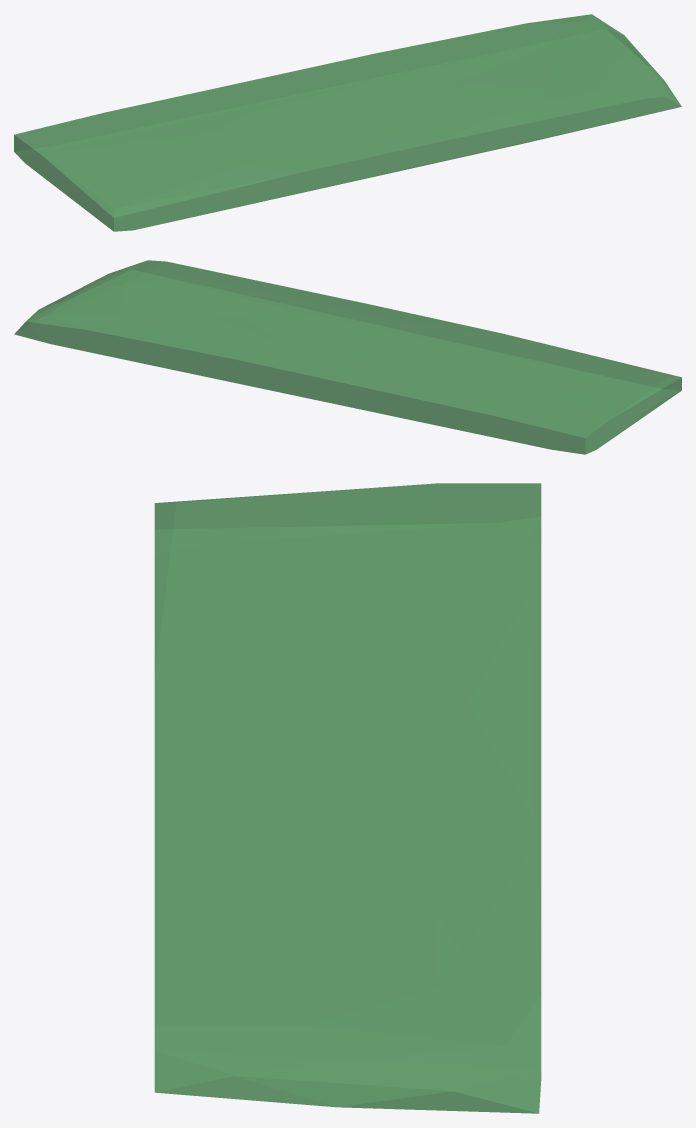
The picture shows the model from 3 angles, top to bottom: view 1: azimuth 30°, elevation 25°; view 2: azimuth 150°, elevation 25°; view 3: azimuth 270°, elevation 25°; orthographic projection. The views are drawn at different scales.
Parts seen in each view (by area): view 1: Shape_IndexedFaceSet.003_Shape_IndexedFaceSet.6185; view 2: Shape_IndexedFaceSet.003_Shape_IndexedFaceSet.6185; view 3: Shape_IndexedFaceSet.003_Shape_IndexedFaceSet.6185.
Boxes of the visible parts, box(x1,y1,x2,y2) form: Shape_IndexedFaceSet.003_Shape_IndexedFaceSet.6185: box(14, 14, 681, 231); Shape_IndexedFaceSet.003_Shape_IndexedFaceSet.6185: box(14, 260, 681, 454); Shape_IndexedFaceSet.003_Shape_IndexedFaceSet.6185: box(154, 483, 541, 1113).
Bounding box in the file's own units: 0.4241 × 0.0258 × 0.1242.
